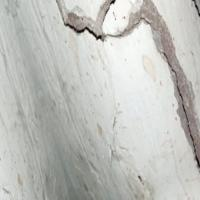crack: (53, 0, 199, 177)
